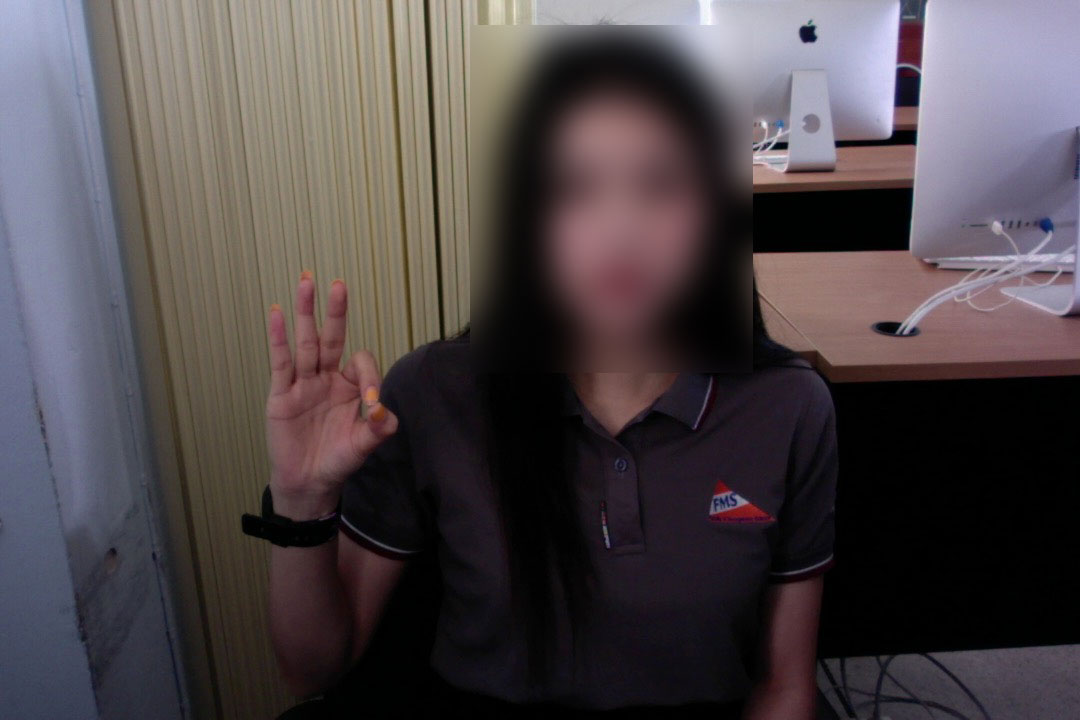wor: (251, 266, 411, 519)
